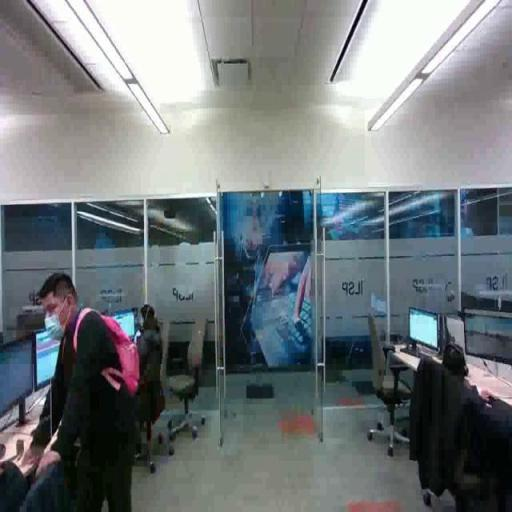person: (35, 279, 139, 512), (440, 337, 512, 479), (117, 302, 176, 418)
